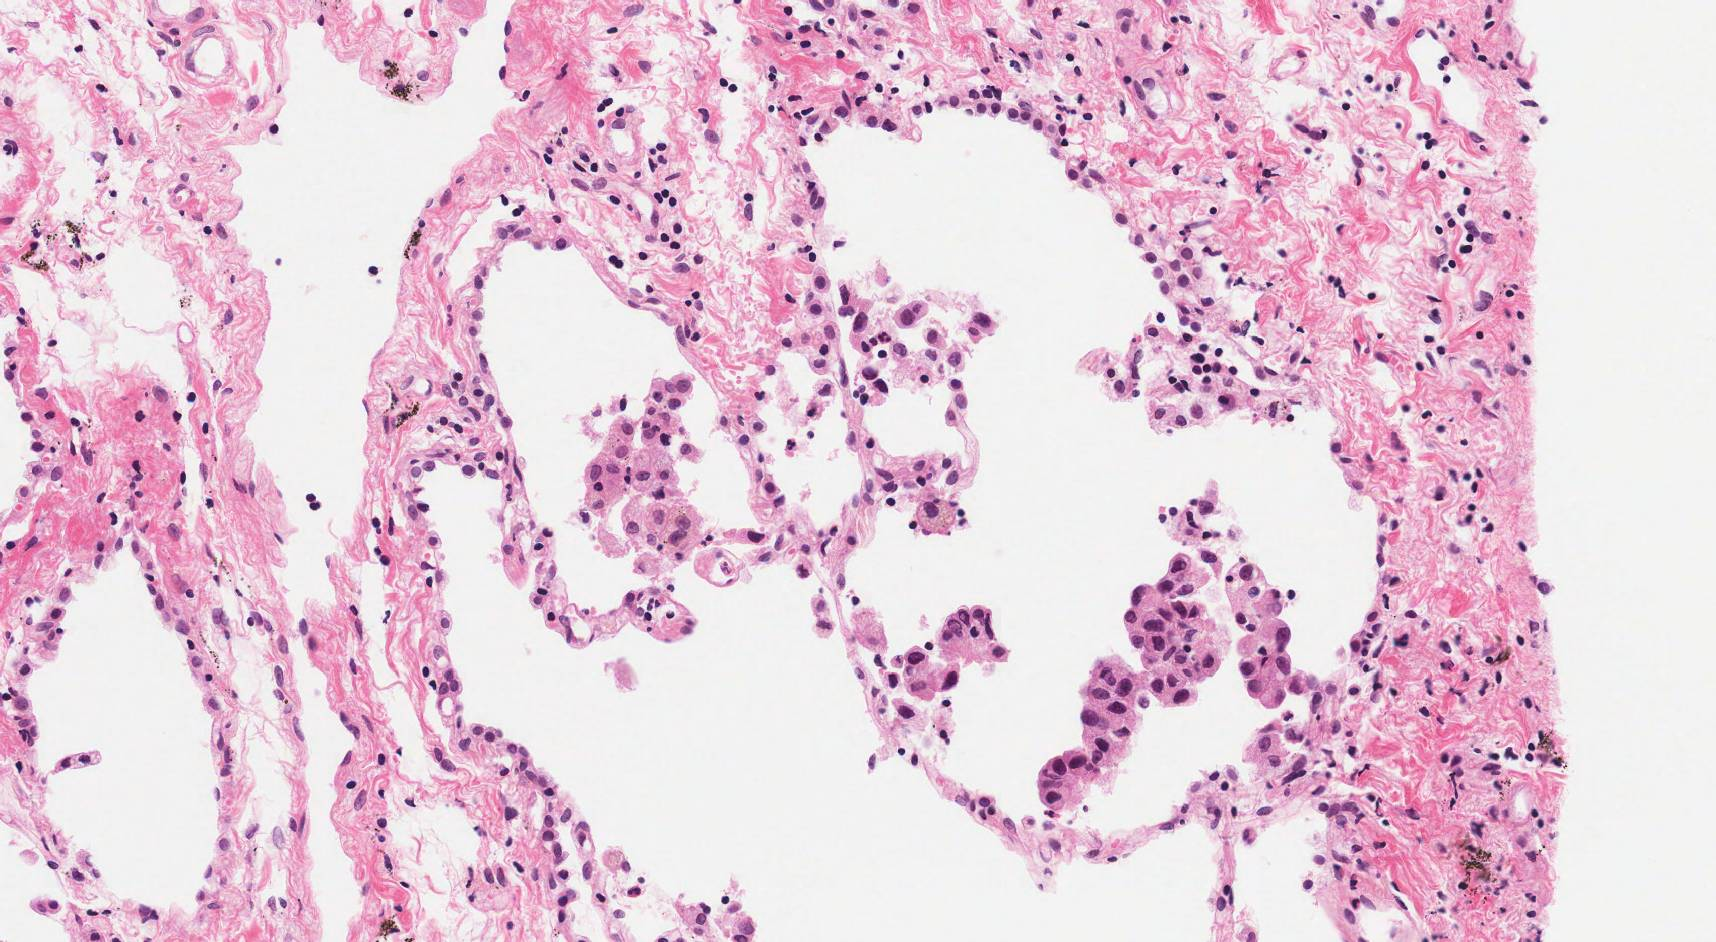stas: (1034, 551, 1220, 813), (1227, 558, 1308, 706), (891, 602, 1008, 700)
